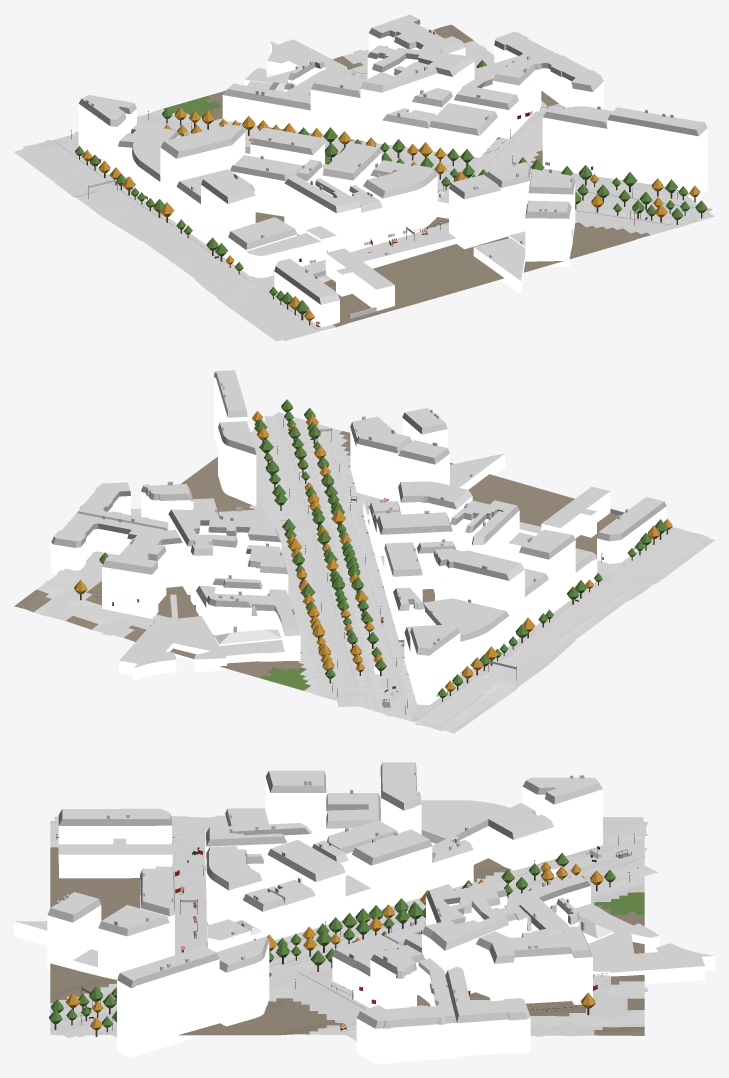
The model's file is zone_D7.glb.
3 views of the same model, one above another, from view 1: azimuth 30°, elevation 25°; view 2: azimuth 150°, elevation 25°; view 3: azimuth 270°, elevation 25° (orthographic). The views are drawn at different scales.
Parts seen in each view (by area): view 1: zone_D7_batiments, zone_D7_terrain, zone_D7_sol_NOCOL, zone_D7_decor_NOCOL; view 2: zone_D7_batiments, zone_D7_sol_NOCOL, zone_D7_terrain, zone_D7_decor_NOCOL; view 3: zone_D7_batiments, zone_D7_terrain, zone_D7_sol_NOCOL, zone_D7_decor_NOCOL.
Part boxes in pixels (x1=…): zone_D7_batiments: x1=78, y1=14, x2=707, y2=331; zone_D7_terrain: x1=22, y1=24, x2=714, y2=341; zone_D7_sol_NOCOL: x1=14, y1=45, x2=712, y2=341; zone_D7_decor_NOCOL: x1=71, y1=60, x2=707, y2=325; zone_D7_batiments: x1=51, y1=370, x2=666, y2=705; zone_D7_sol_NOCOL: x1=43, y1=415, x2=714, y2=733; zone_D7_terrain: x1=14, y1=412, x2=709, y2=730; zone_D7_decor_NOCOL: x1=74, y1=399, x2=672, y2=714; zone_D7_batiments: x1=14, y1=762, x2=714, y2=1063; zone_D7_terrain: x1=50, y1=821, x2=644, y2=1035; zone_D7_sol_NOCOL: x1=50, y1=816, x2=657, y2=1040; zone_D7_decor_NOCOL: x1=49, y1=834, x2=637, y2=1036.
Size of the model in its own units: 221 by 38.76 by 251.
